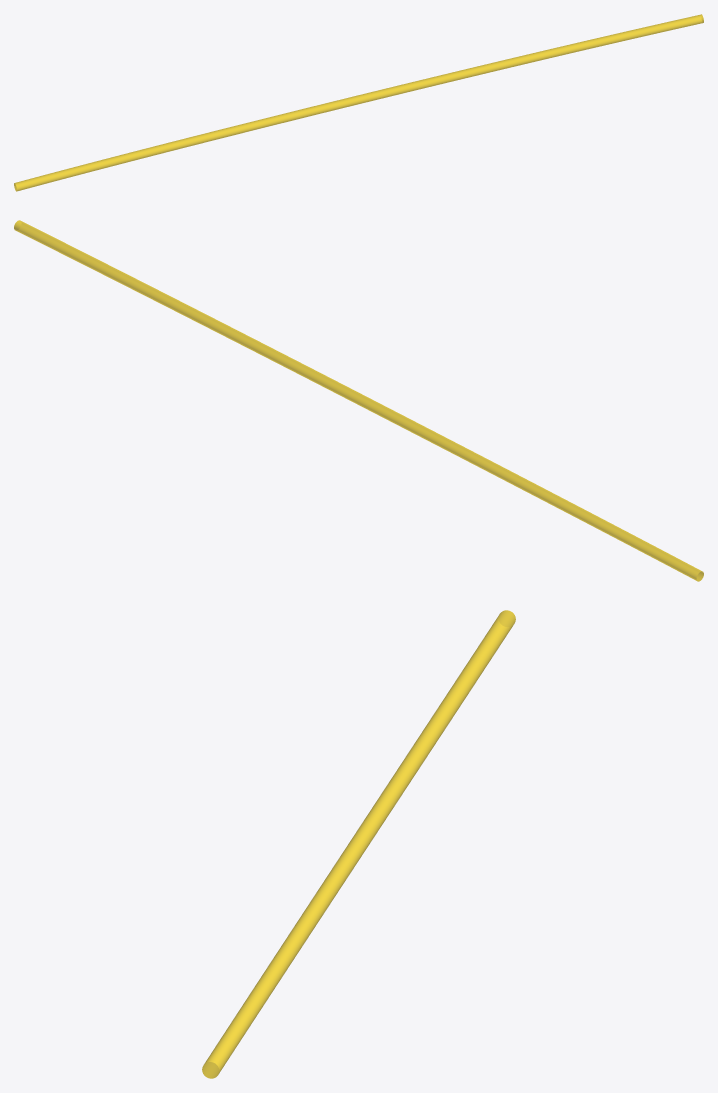
File: Event_402970704_track_20.fbx
The picture shows the model from 3 angles, top to bottom: view 1: azimuth 30°, elevation 25°; view 2: azimuth 150°, elevation 25°; view 3: azimuth 270°, elevation 25°; orthographic projection. The views are drawn at different scales.
Parts seen in each view (by area): view 1: Model; view 2: Model; view 3: Model.
Part boxes in pixels (left/top/right/bottom): Model: left=14, top=14, right=703, bottom=191; Model: left=14, top=220, right=703, bottom=581; Model: left=202, top=610, right=515, bottom=1078.
Bounding box in the file's own units: 3.2 × 0.4045 × 0.7075.
